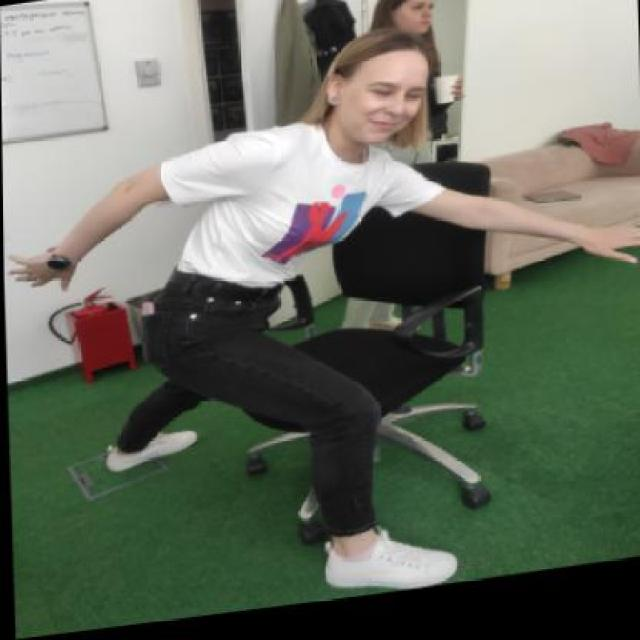chair: (225, 154, 509, 564)
